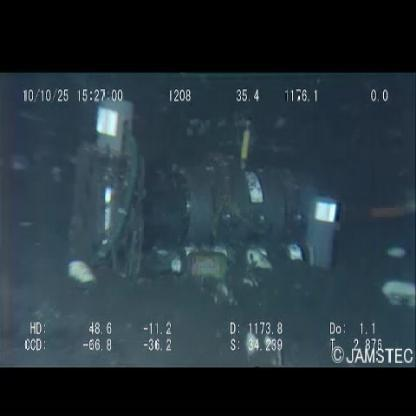Rác: (171, 254, 230, 278)
